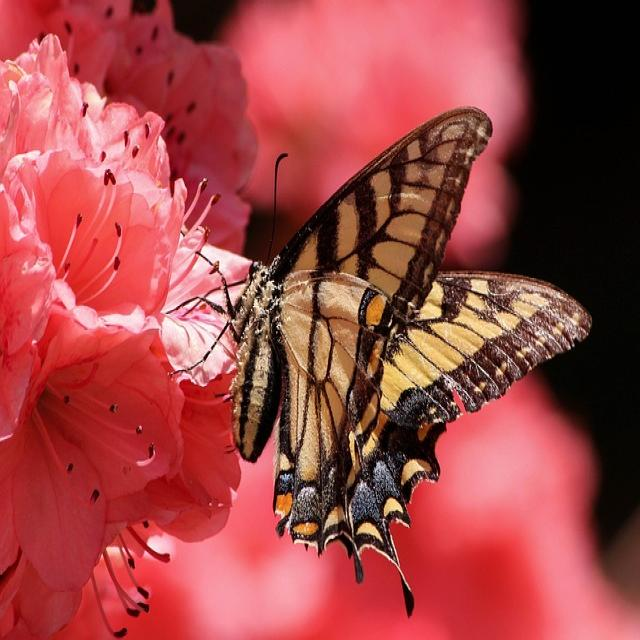butterfly: (230, 108, 590, 615)
